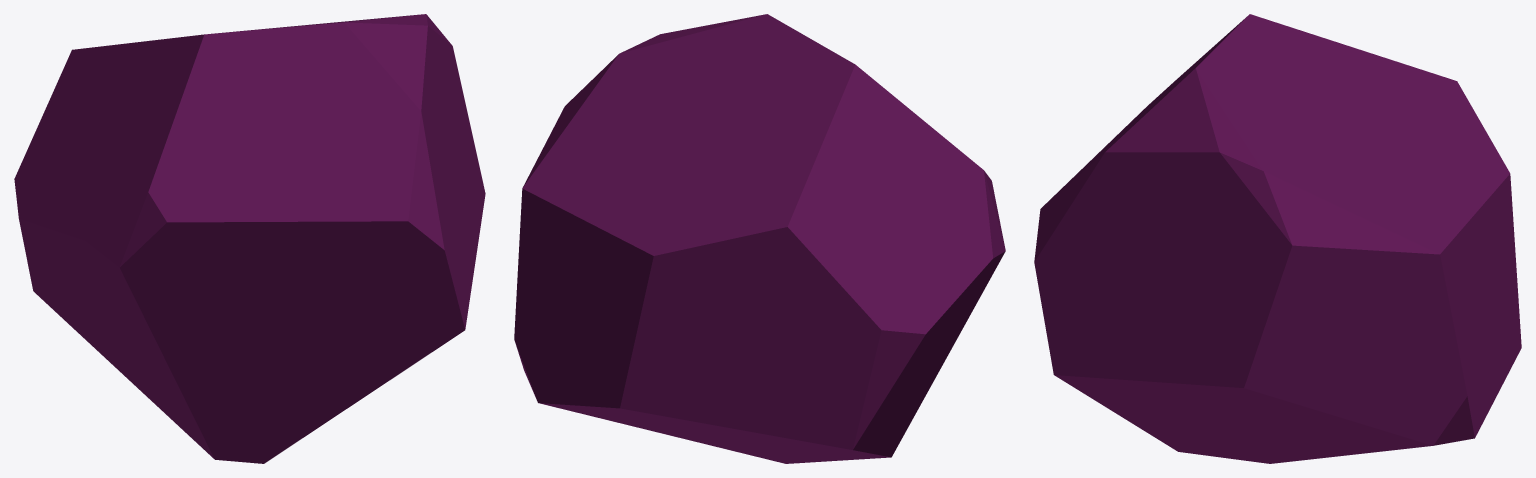
The model's file is BlackStone3.fbx.
The picture shows the model from 3 angles, left to right: view 1: azimuth 30°, elevation 25°; view 2: azimuth 150°, elevation 25°; view 3: azimuth 270°, elevation 25°; orthographic projection. The views are drawn at different scales.
Parts seen in each view (by area): view 1: Sphere; view 2: Sphere; view 3: Sphere.
Boxes of the visible parts, x1,y1,x2,y2 form: Sphere: [14, 14, 485, 463]; Sphere: [514, 14, 1005, 463]; Sphere: [1034, 14, 1521, 463].
Size of the model in its own units: 186 by 181 by 186.
